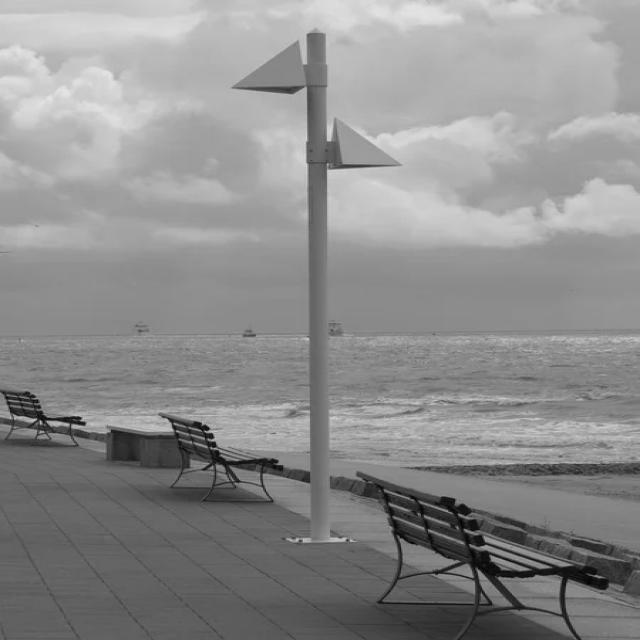Pole: (233, 30, 401, 543)
